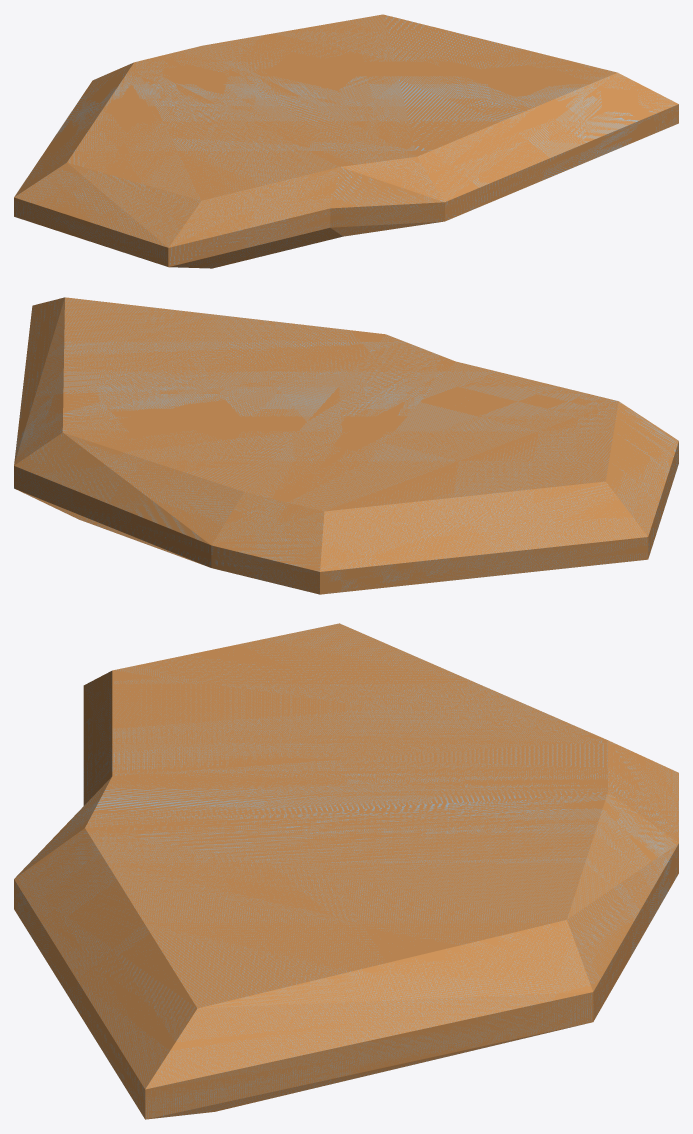
Rendered from Rock_Medium_Flat_Dirt_04.fbx.
3 views of the same model, one above another, from view 1: azimuth 30°, elevation 25°; view 2: azimuth 150°, elevation 25°; view 3: azimuth 270°, elevation 25° (orthographic). The views are drawn at different scales.
Parts seen in each view (by area): view 1: Model; view 2: Model; view 3: Model.
Part boxes in pixels (x1=…): Model: x1=14, y1=14, x2=678, y2=268; Model: x1=14, y1=297, x2=678, y2=594; Model: x1=14, y1=623, x2=678, y2=1119.
Size of the model in its own units: 305 by 36 by 189.
